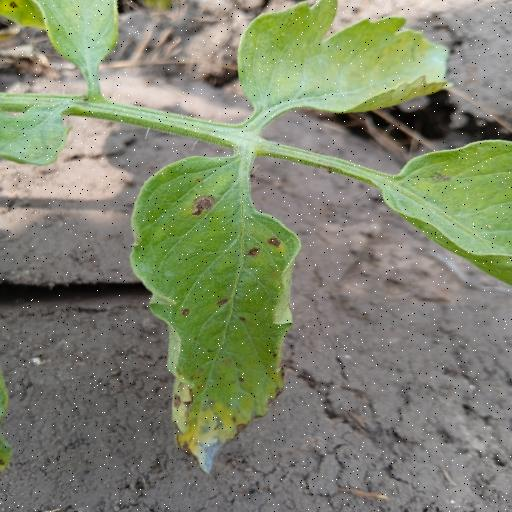Tomato_Brown_Spots: (127, 152, 303, 474), (234, 0, 455, 122)
